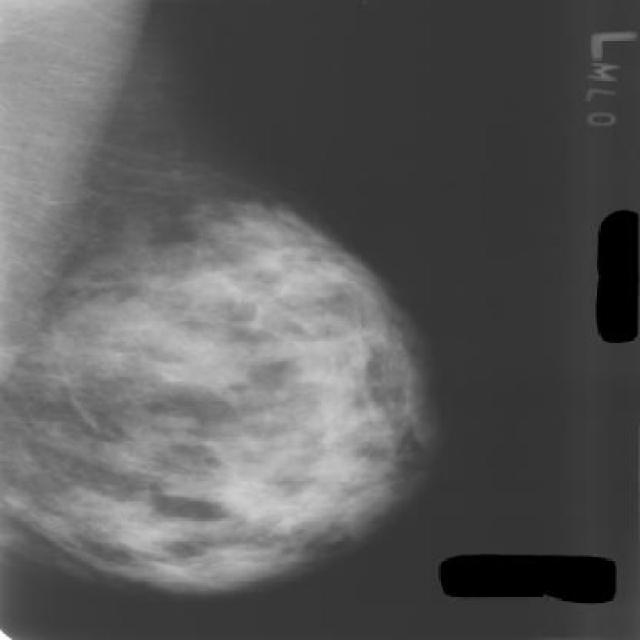tumor: (92, 213, 398, 604)
